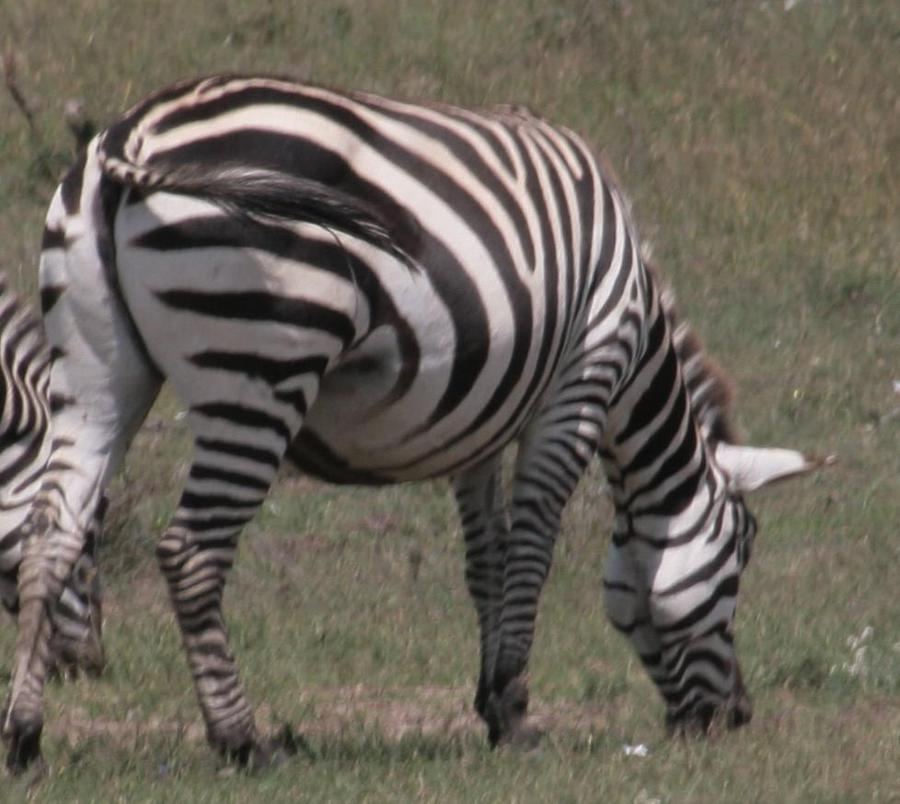zebra_plains: (121, 54, 698, 516)
